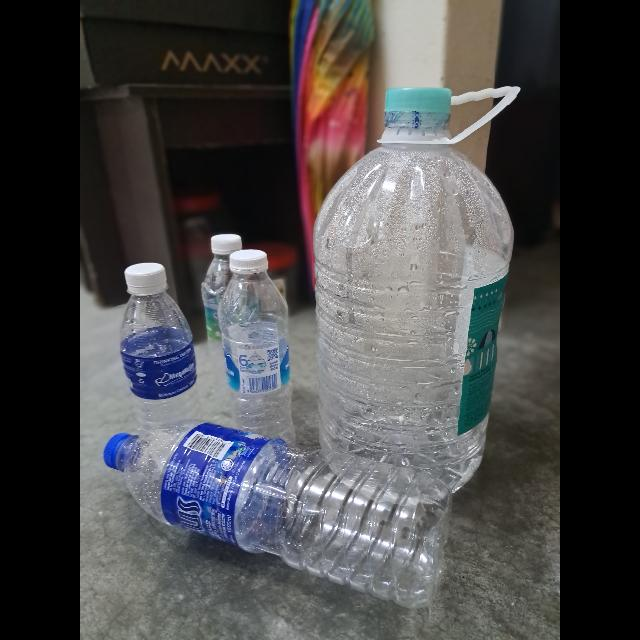garrafa plástica: (314, 128, 514, 502), (122, 418, 452, 608), (220, 271, 298, 449), (120, 294, 202, 444), (202, 256, 245, 398)
tampa plástica: (382, 88, 452, 114), (124, 263, 168, 295), (105, 432, 134, 472), (230, 250, 268, 272), (212, 234, 242, 254)
